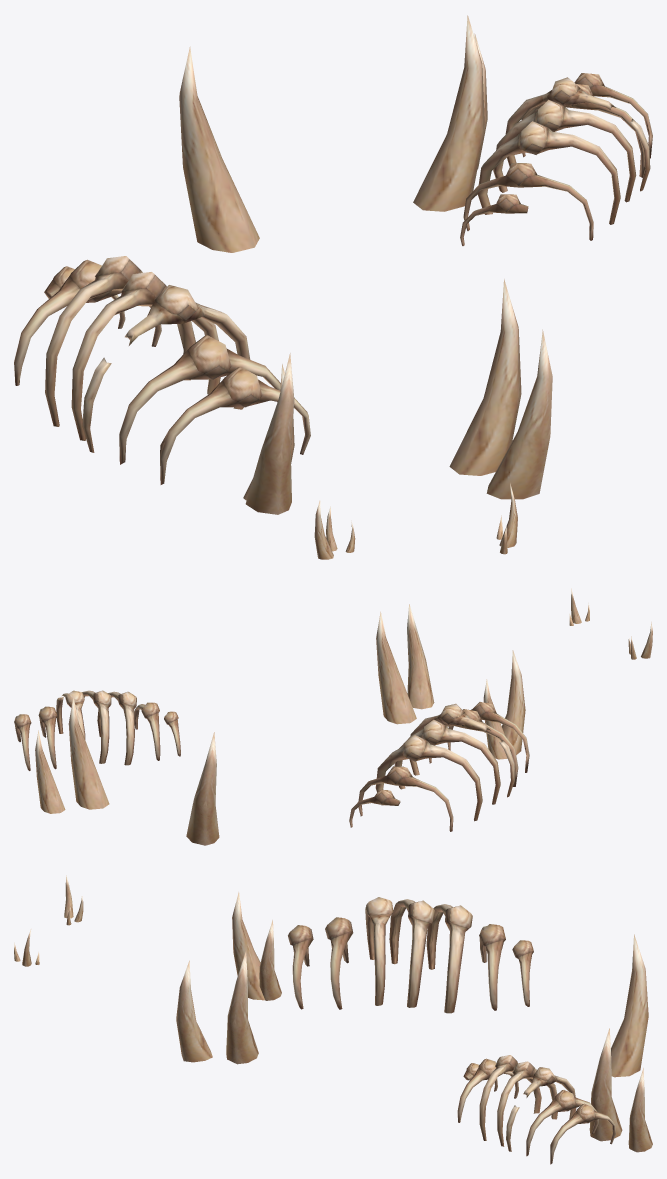
The model's file is area_09_14.fbx.
The picture shows the model from 3 angles, top to bottom: view 1: azimuth 30°, elevation 25°; view 2: azimuth 150°, elevation 25°; view 3: azimuth 270°, elevation 25°; orthographic projection. The views are drawn at different scales.
Visible parts, largest first — view 1: area_09_14; view 2: area_09_14; view 3: area_09_14.
Part boxes in pixels (box(x1,y1,x2,y2)): area_09_14: box(14, 15, 652, 559); area_09_14: box(14, 588, 652, 845); area_09_14: box(14, 875, 652, 1164).
Size of the model in its own units: 61.93 by 16.28 by 74.27.
